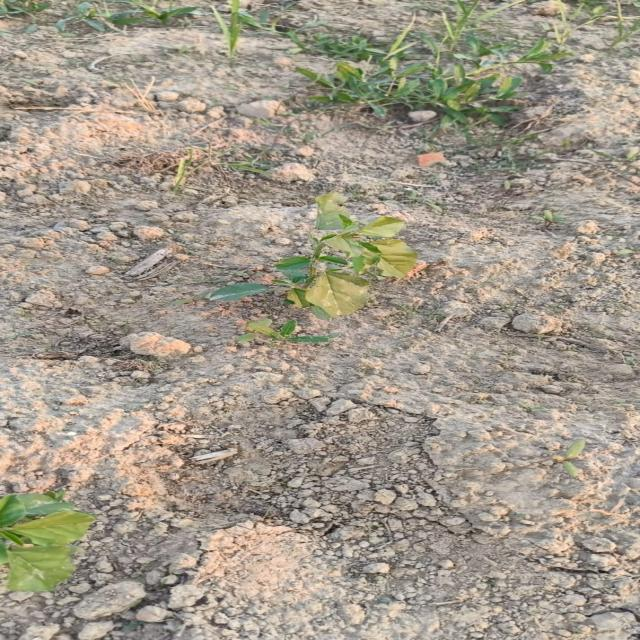plant: (200, 190, 416, 319), (234, 320, 337, 344)
